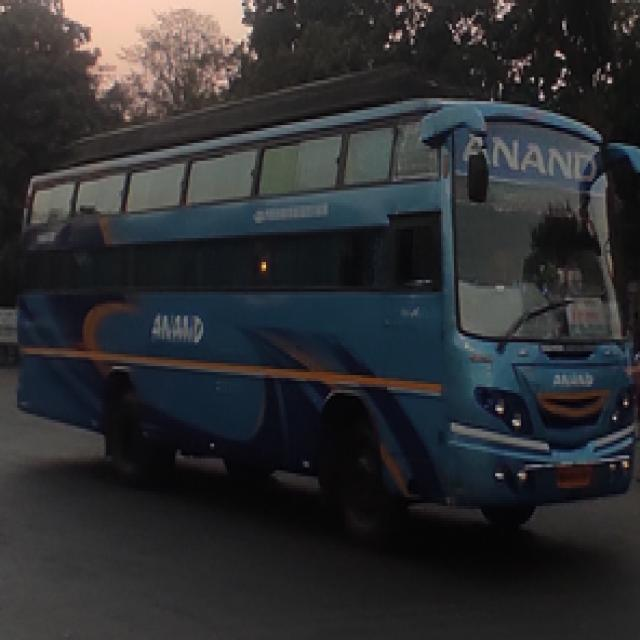bus: (13, 77, 640, 551)
